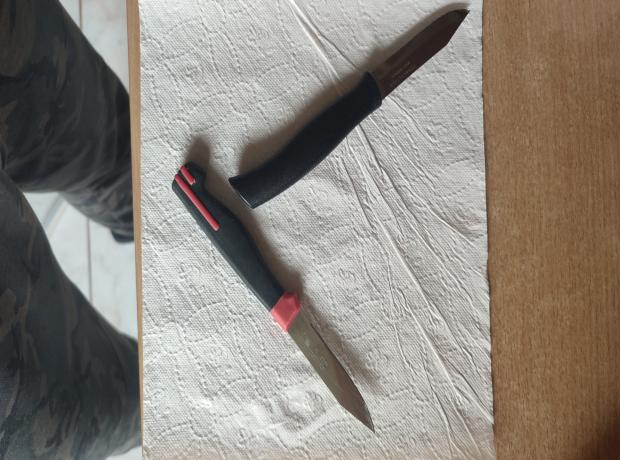metal: (171, 160, 376, 434), (227, 7, 471, 210)
